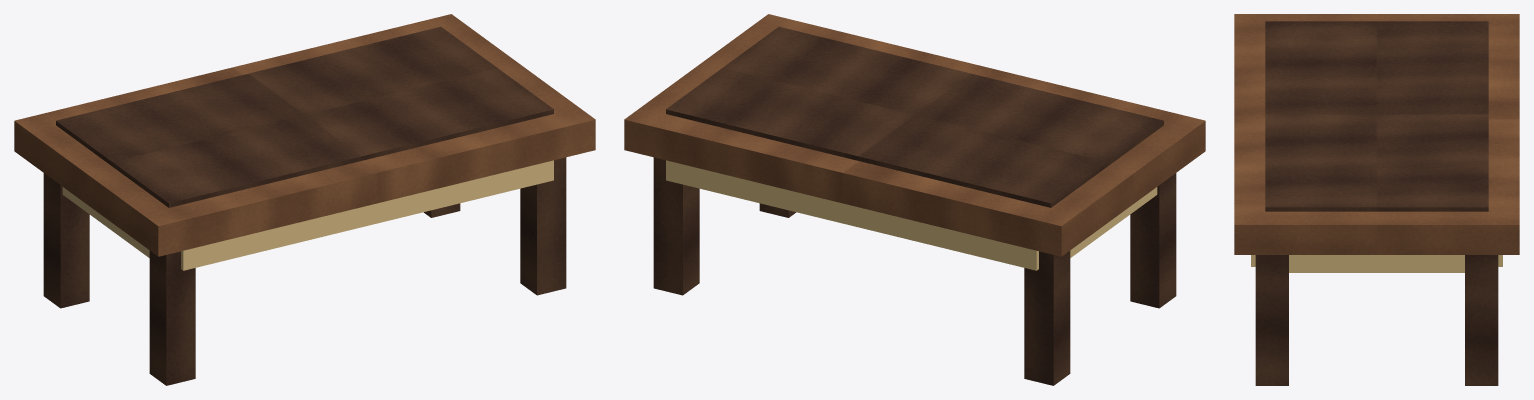
The model's file is meja_buku_perjalanan.glb.
3 renders of one model, left to right at view 1: azimuth 30°, elevation 25°; view 2: azimuth 150°, elevation 25°; view 3: azimuth 270°, elevation 25°, orthographic.
Parts seen in each view (by area): view 1: STORY_TABLE_INLAY, STORY_TABLE_TOP, STORY_TABLE_APRON_0.49, STORY_TABLE_LEG_-0.89_0.44, STORY_TABLE_LEG_0.89_0.44, STORY_TABLE_LEG_-0.89_-0.44, STORY_TABLE_APRON_X_-0.91; view 2: STORY_TABLE_INLAY, STORY_TABLE_TOP, STORY_TABLE_APRON_-0.49, STORY_TABLE_LEG_-0.89_-0.44, STORY_TABLE_LEG_0.89_-0.44, STORY_TABLE_LEG_-0.89_0.44, STORY_TABLE_APRON_X_-0.91; view 3: STORY_TABLE_INLAY, STORY_TABLE_TOP, STORY_TABLE_LEG_0.89_-0.44, STORY_TABLE_LEG_0.89_0.44, STORY_TABLE_APRON_X_0.91.
Boxes of the visible parts, bbox=[...] form: STORY_TABLE_INLAY: bbox=[56, 26, 553, 207]; STORY_TABLE_TOP: bbox=[14, 14, 595, 256]; STORY_TABLE_APRON_0.49: bbox=[181, 160, 553, 270]; STORY_TABLE_LEG_-0.89_0.44: bbox=[149, 251, 195, 385]; STORY_TABLE_LEG_0.89_0.44: bbox=[520, 157, 566, 295]; STORY_TABLE_LEG_-0.89_-0.44: bbox=[43, 173, 89, 308]; STORY_TABLE_APRON_X_-0.91: bbox=[62, 187, 149, 257]; STORY_TABLE_INLAY: bbox=[666, 26, 1163, 207]; STORY_TABLE_TOP: bbox=[624, 14, 1205, 256]; STORY_TABLE_APRON_-0.49: bbox=[666, 160, 1038, 270]; STORY_TABLE_LEG_-0.89_-0.44: bbox=[1024, 251, 1070, 385]; STORY_TABLE_LEG_0.89_-0.44: bbox=[653, 157, 699, 295]; STORY_TABLE_LEG_-0.89_0.44: bbox=[1130, 173, 1176, 308]; STORY_TABLE_APRON_X_-0.91: bbox=[1070, 187, 1157, 257]; STORY_TABLE_INLAY: bbox=[1265, 21, 1488, 211]; STORY_TABLE_TOP: bbox=[1234, 14, 1519, 254]; STORY_TABLE_LEG_0.89_-0.44: bbox=[1465, 255, 1498, 385]; STORY_TABLE_LEG_0.89_0.44: bbox=[1255, 255, 1288, 385]; STORY_TABLE_APRON_X_0.91: bbox=[1289, 255, 1464, 272].
Bounding box in the file's own units: 2.1 × 0.8135 × 1.2.
Materials: 3 (2 with a texture image).
